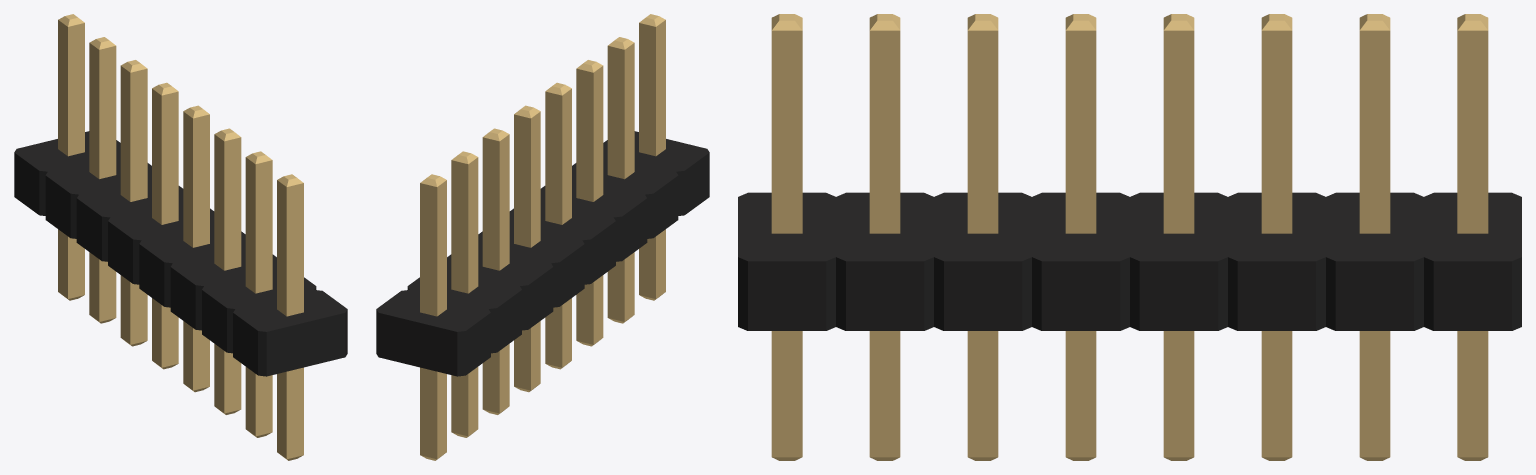
File: PinHeader_1x08_P1.27mm_Vertical.glb
The picture shows the model from 3 angles, left to right: view 1: azimuth 30°, elevation 25°; view 2: azimuth 150°, elevation 25°; view 3: azimuth 270°, elevation 25°; orthographic projection. The views are drawn at different scales.
Visible parts, largest first — view 1: =>[0:1:1:3]; view 2: =>[0:1:1:3]; view 3: =>[0:1:1:3].
Part boxes in pixels (left/top/right/bottom): =>[0:1:1:3]: left=14, top=14, right=347, bottom=460; =>[0:1:1:3]: left=376, top=14, right=709, bottom=460; =>[0:1:1:3]: left=738, top=14, right=1521, bottom=460.
Size of the model in its own units: 0.0021 by 0.0063 by 0.0102.
